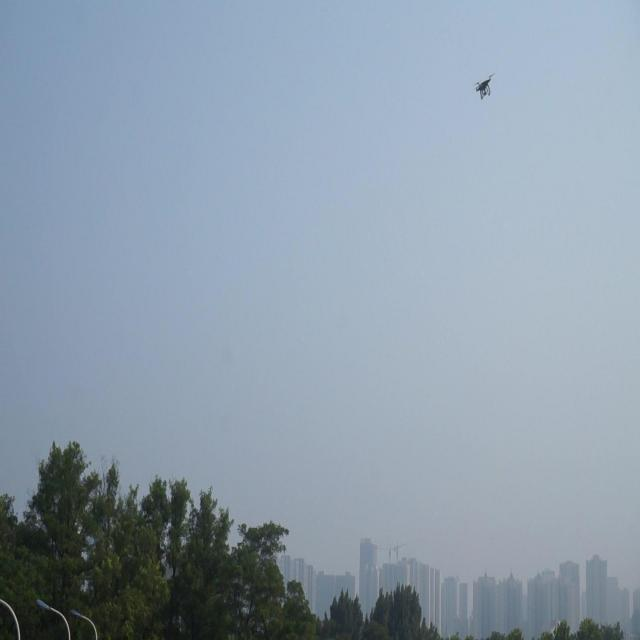UAV: (474, 73, 495, 100)
